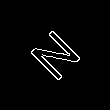N_SE: (23, 23, 87, 87)
